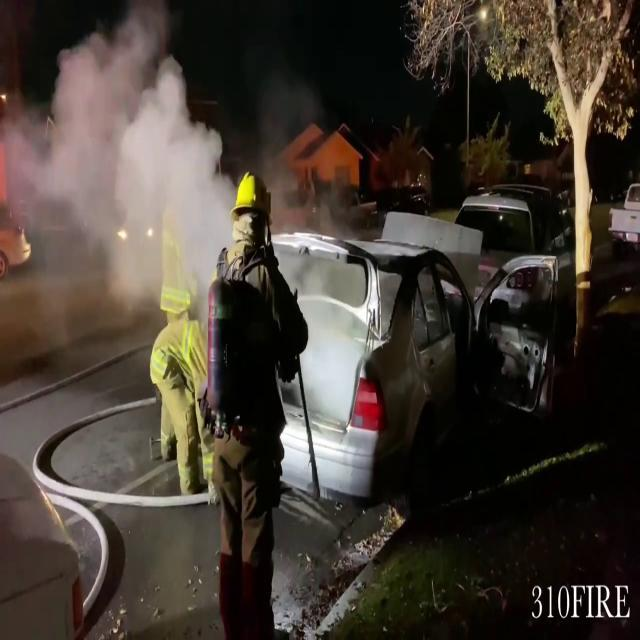Smoke: (8, 5, 224, 268)
